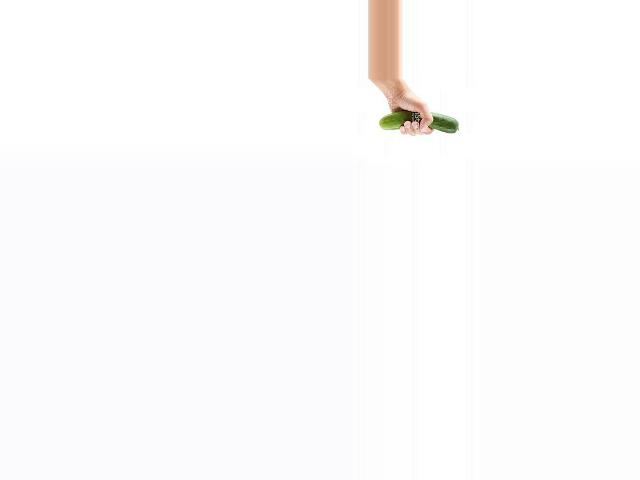cucumber: (379, 110, 458, 134)
